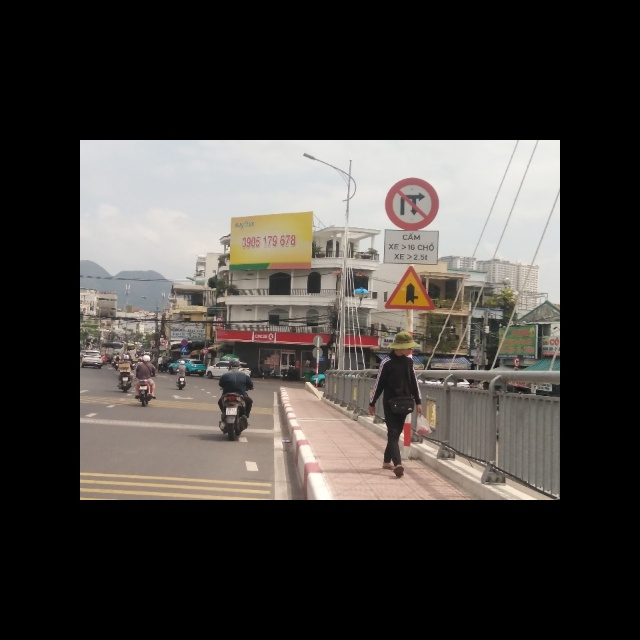Cấm quay đầu và rẽ phải: (385, 177, 437, 231)
Giao nhau với đường không ưu tiên: (384, 263, 436, 308)
